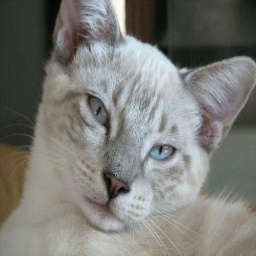cat: (7, 0, 256, 256)
